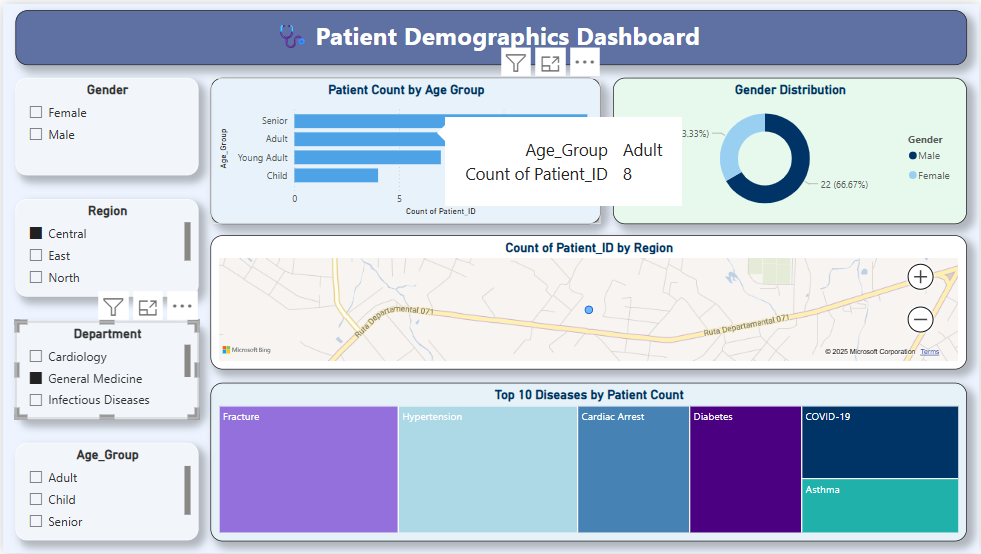

This screenshot's page, from the dashboard's own definition file:
{"tool":"powerbi","page":{"name":"Page 2","canvas":[1280,720],"ordinal":1},"visuals":[{"type":"textbox","box":[16,8,1248,72],"z":0},{"type":"barChart","title":"Patient Count by Age Group","fields":{"Category":["Sheet1.Age_Group"],"Y":["CountNonNull(Sheet1.Patient_ID)"]},"box":[272,96,512,192],"z":1000},{"type":"donutChart","title":"Gender Distribution","fields":{"Category":["Sheet1.Gender"],"Y":["CountNonNull(Sheet1.Patient_ID)"]},"box":[800,96,464,192],"z":2000},{"type":"treemap","title":"Top 10 Diseases by Patient Count","fields":{"Group":["Sheet1.Disease"],"Values":["CountNonNull(Sheet1.Patient_ID)"]},"box":[272,496,992,208],"z":3000},{"type":"slicer","title":"Gender","fields":{"Values":["Sheet1.Gender"]},"box":[16,96,240,128],"z":4000},{"type":"slicer","title":"Age_Group","fields":{"Values":["Sheet1.Age_Group"]},"box":[16,576,240,128],"z":5000},{"type":"slicer","title":"Department","fields":{"Values":["Sheet1.Department"]},"box":[16,416,240,128],"z":6000},{"type":"slicer","title":"Region","fields":{"Values":["Sheet1.Region"]},"box":[16,256,240,128],"z":7000},{"type":"map","fields":{"Category":["Sheet1.Region"],"Size":["CountNonNull(Sheet1.Patient_ID)"]},"box":[272,304,992,176],"z":8000}]}

Visuals, with their boxes in screenshot pixels (x1, y1, x2, y2), scaled from the page's 1280x720 canvas onto the 981x554 screenshot:
textbox: BBox(12, 6, 969, 62)
"Patient Count by Age Group" barChart: BBox(208, 74, 601, 222)
"Gender Distribution" donutChart: BBox(613, 74, 969, 222)
"Top 10 Diseases by Patient Count" treemap: BBox(208, 382, 969, 542)
"Gender" slicer: BBox(12, 74, 196, 172)
"Age_Group" slicer: BBox(12, 443, 196, 542)
"Department" slicer: BBox(12, 320, 196, 419)
"Region" slicer: BBox(12, 197, 196, 295)
map - Sheet1.Region x CountNonNull(Sheet1.Patient_ID): BBox(208, 234, 969, 369)
